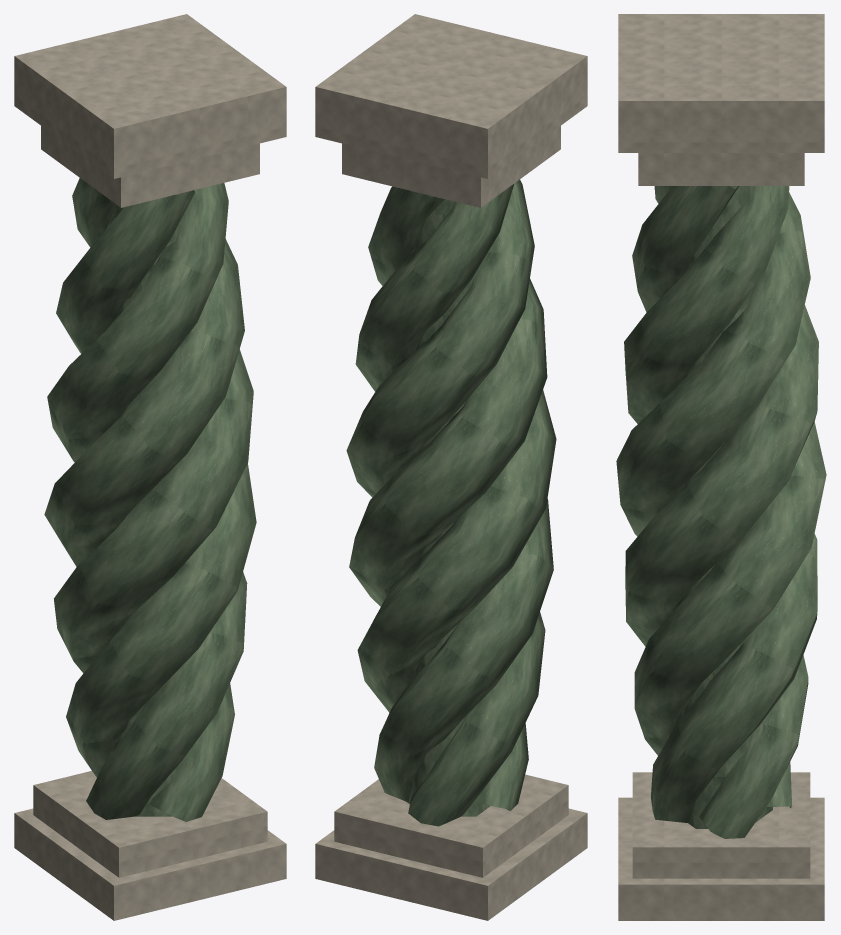
The model's file is Column_Twisted_Giant_1_LOD1.gltf.
The picture shows the model from 3 angles, left to right: view 1: azimuth 30°, elevation 25°; view 2: azimuth 150°, elevation 25°; view 3: azimuth 270°, elevation 25°; orthographic projection. The views are drawn at different scales.
Parts seen in each view (by area): view 1: Column_Twisted_Giant_1_LOD1; view 2: Column_Twisted_Giant_1_LOD1; view 3: Column_Twisted_Giant_1_LOD1.
Part boxes in pixels (x1,y1,x2,y2): Column_Twisted_Giant_1_LOD1: [14, 14, 286, 920]; Column_Twisted_Giant_1_LOD1: [315, 14, 587, 920]; Column_Twisted_Giant_1_LOD1: [616, 14, 826, 920].
Size of the model in its own units: 3.67 by 15.8 by 3.67.
Materials: 2 (2 with a texture image).
